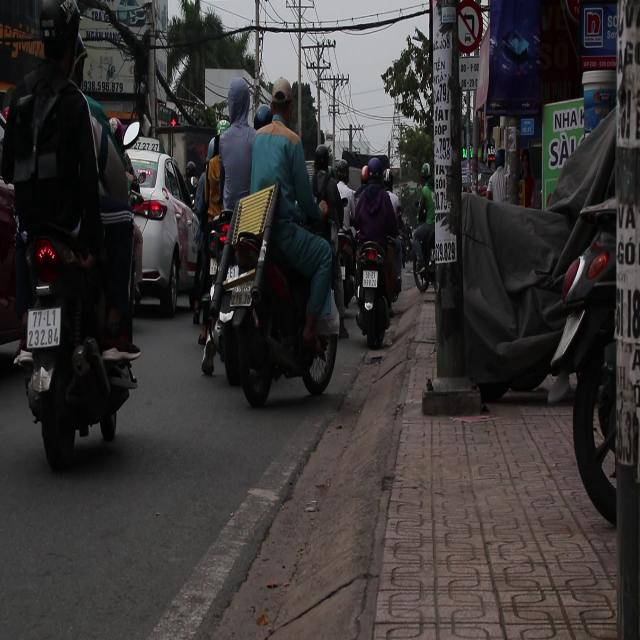car: (127, 153, 201, 318)
motorbike: (5, 162, 142, 458), (202, 182, 344, 404), (351, 228, 401, 349), (412, 218, 436, 296)
